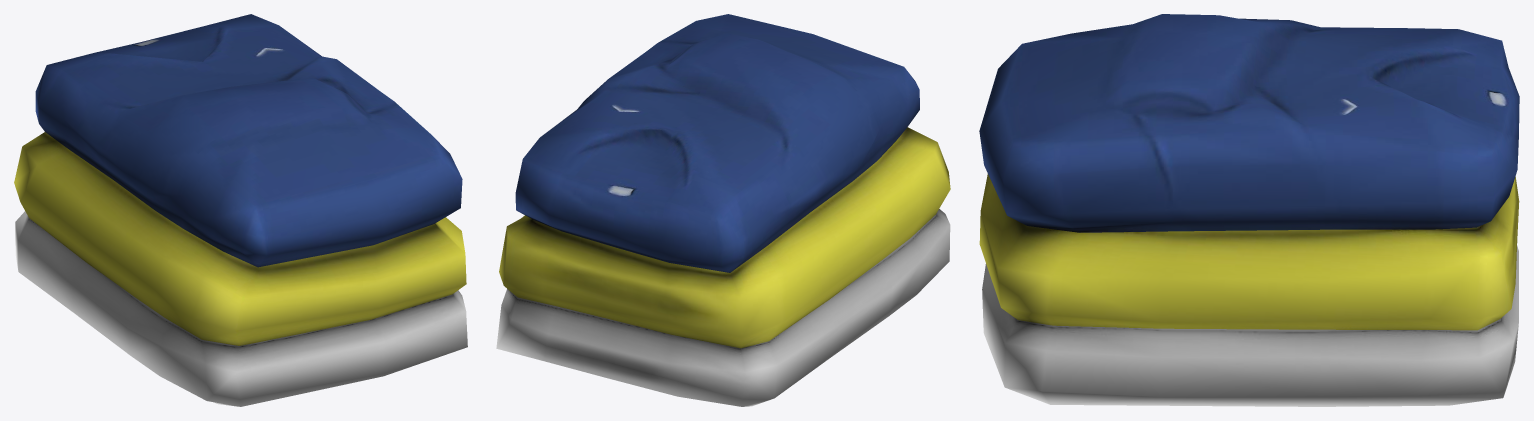
File: foldedClothes.fbx
3 views of the same model, side by side, from view 1: azimuth 30°, elevation 25°; view 2: azimuth 150°, elevation 25°; view 3: azimuth 270°, elevation 25° (orthographic). The views are drawn at different scales.
Visible parts, largest first — view 1: foldedClothes; view 2: foldedClothes; view 3: foldedClothes.
Part boxes in pixels (x1,y1,x2,y2): foldedClothes: (14,14,467,406); foldedClothes: (496,14,950,406); foldedClothes: (979,14,1519,406).
Size of the model in its own units: 36.31 by 50.03 by 30.49.
